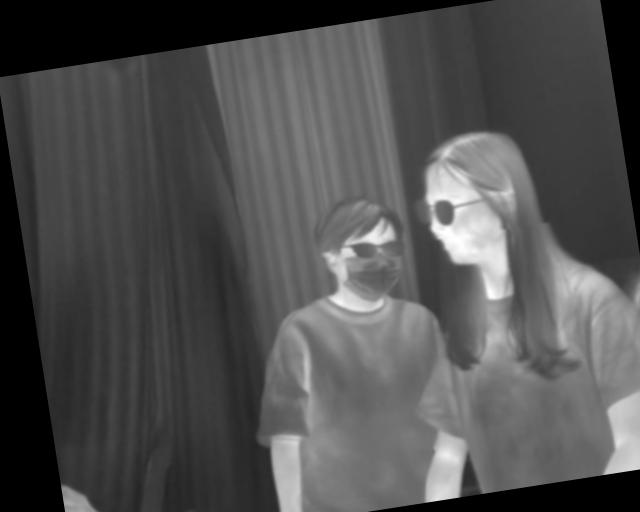face: (309, 189, 413, 310)
